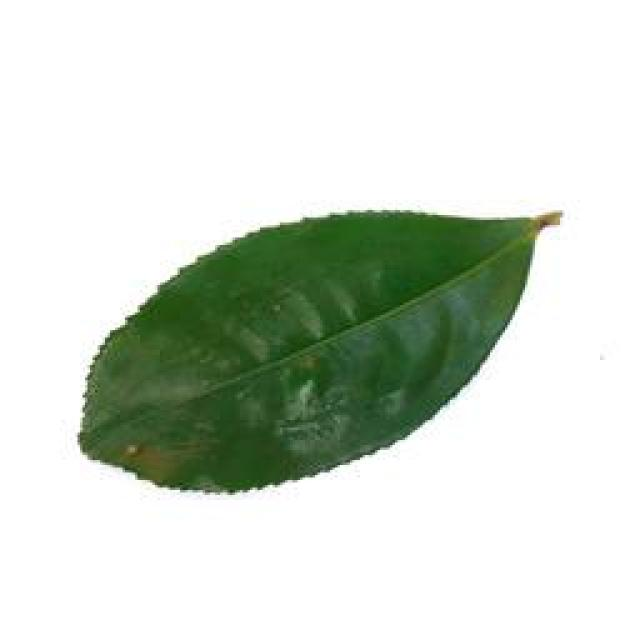Healthy: (75, 199, 572, 487)
